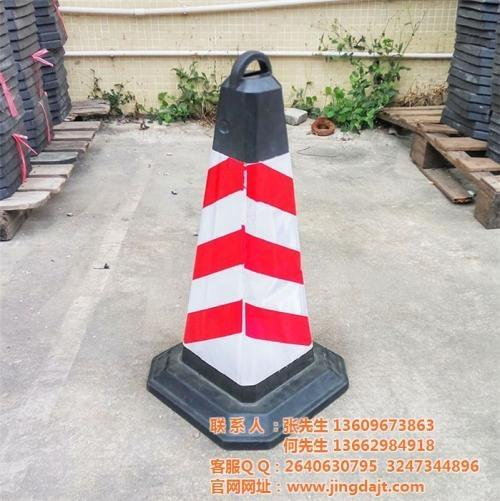cone_barrel: (138, 49, 346, 446)
